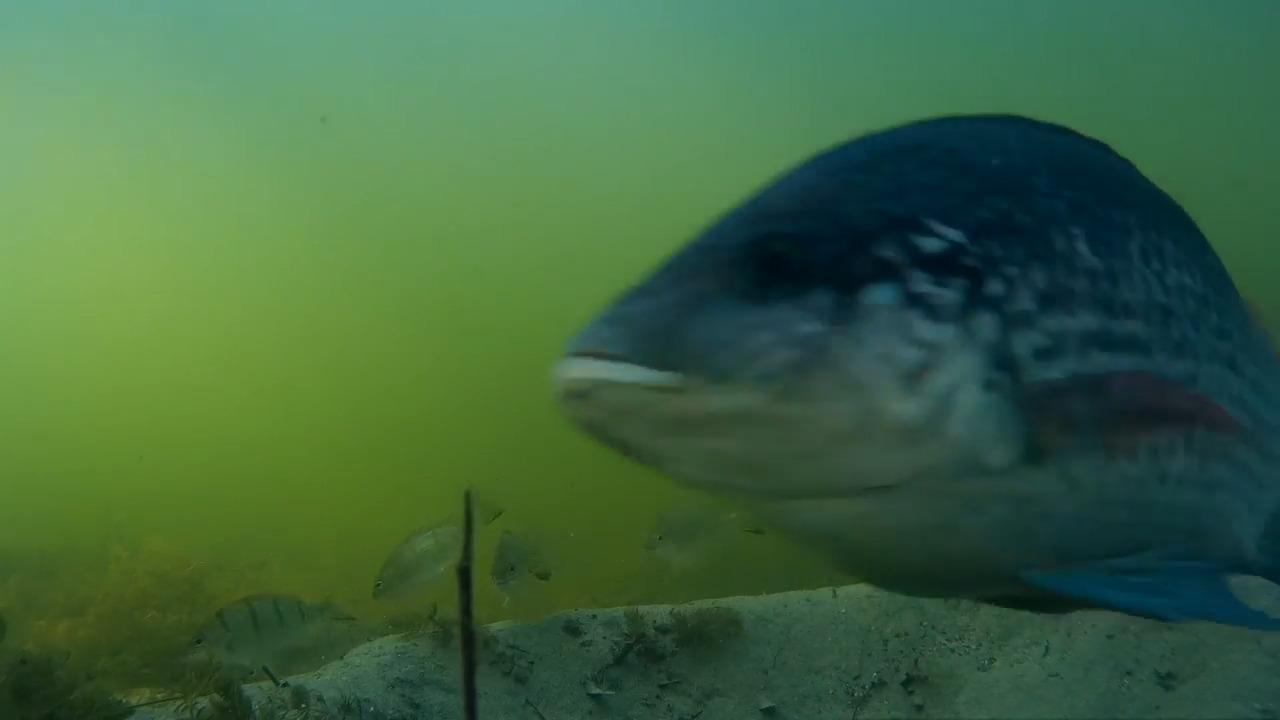Tilapia: (544, 75, 1280, 645), (191, 586, 362, 696), (373, 484, 486, 606), (621, 492, 740, 586), (465, 520, 552, 602)
